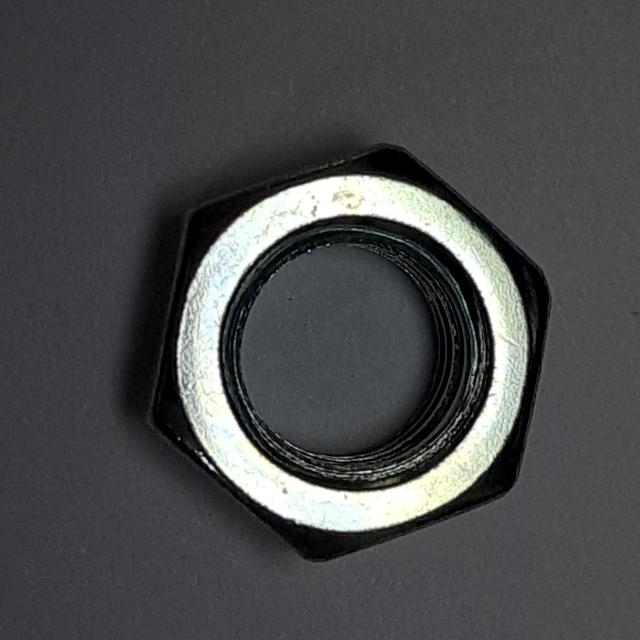Excellent: (128, 126, 566, 581)
